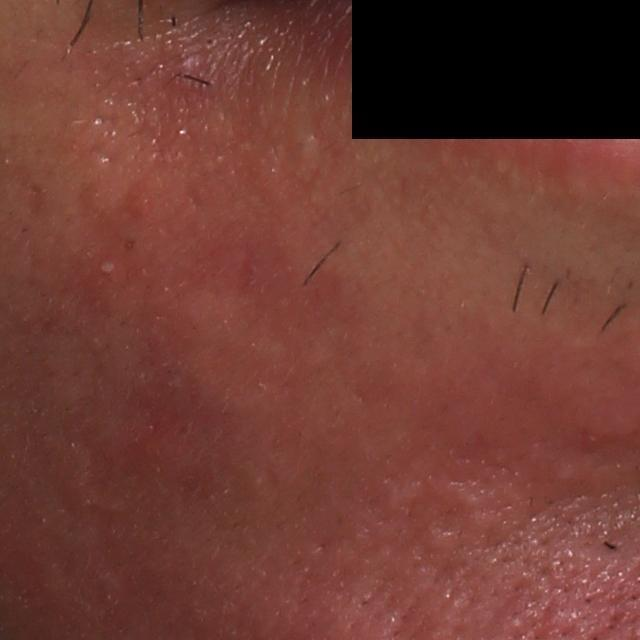pustule: (90, 249, 125, 284)
